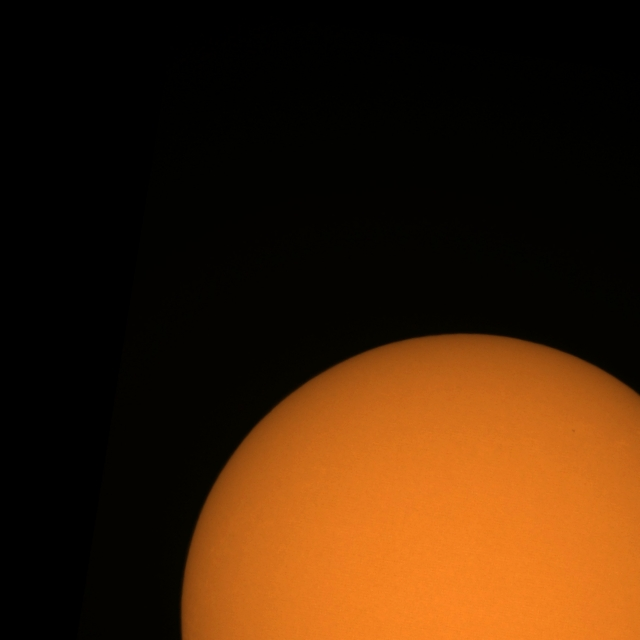sunspot: (571, 428, 576, 434)
